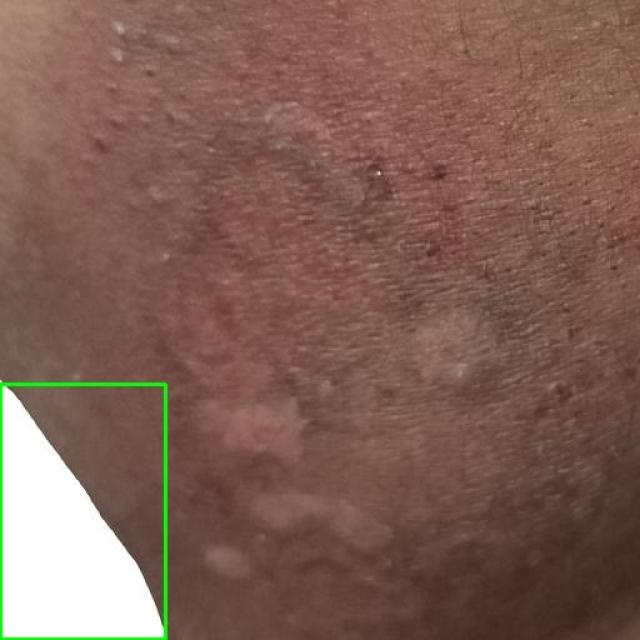Eczema: (0, 384, 165, 639)
